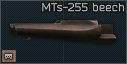MTs-255-12 beechwood forestock: (0, 0, 127, 64)
